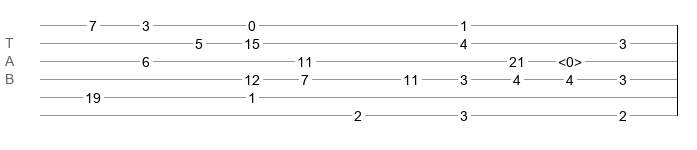0: (248, 18, 256, 28)
1: (248, 90, 256, 100), (460, 18, 468, 28)
11: (297, 54, 313, 64), (403, 72, 419, 82)
12: (244, 72, 260, 82)
15: (244, 36, 260, 46)
19: (85, 90, 101, 100)
2: (354, 108, 362, 118), (619, 108, 627, 118)
21: (509, 54, 525, 64)
3: (142, 18, 150, 28), (460, 72, 468, 82), (460, 108, 468, 118), (619, 72, 627, 82), (619, 36, 627, 46)
4: (460, 36, 468, 46), (513, 72, 521, 82), (566, 72, 574, 82)
5: (195, 36, 203, 46)
6: (142, 54, 150, 64)
7: (89, 18, 97, 28), (301, 72, 309, 82)
harmonic: (558, 54, 582, 64)
